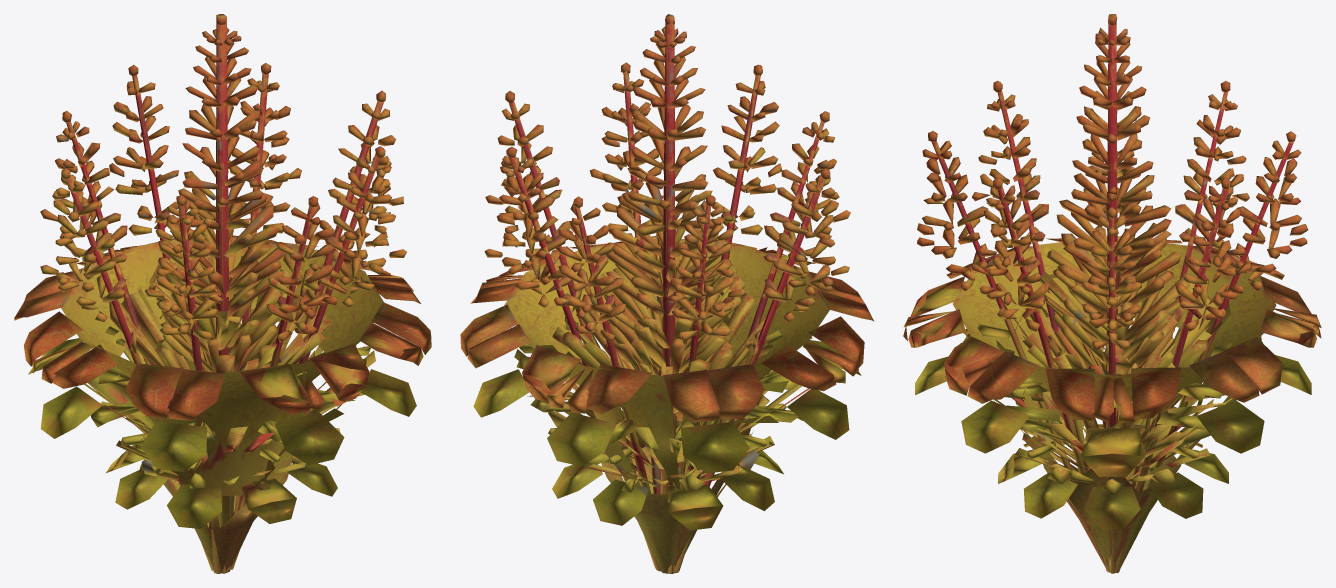
Rendered from obj_canawa.fbx.
3 renders of one model, left to right at view 1: azimuth 30°, elevation 25°; view 2: azimuth 150°, elevation 25°; view 3: azimuth 270°, elevation 25°, orthographic.
Parts seen in each view (by area): view 1: SM_Canawa; view 2: SM_Canawa; view 3: SM_Canawa.
Boxes of the visible parts, bbox=[...] form: SM_Canawa: bbox=[14, 14, 431, 573]; SM_Canawa: bbox=[460, 14, 874, 573]; SM_Canawa: bbox=[903, 14, 1321, 573].
Bounding box in the file's own units: 0.2383 × 0.3432 × 0.2352.
